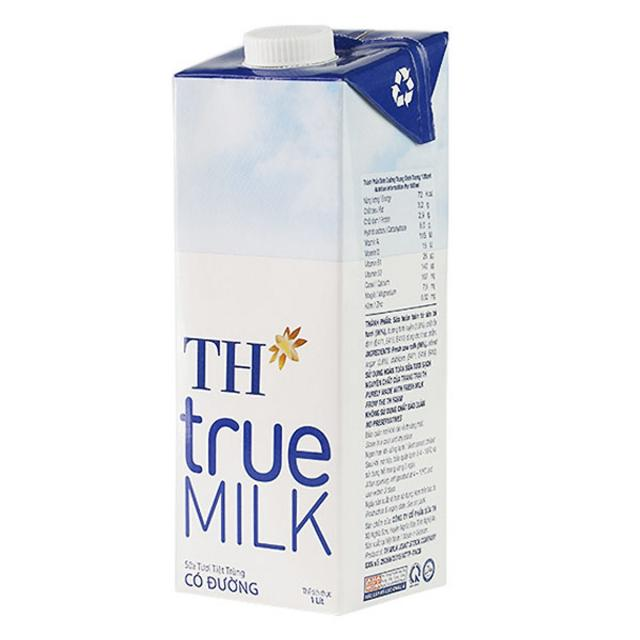non_white_jug: (151, 13, 463, 626)
